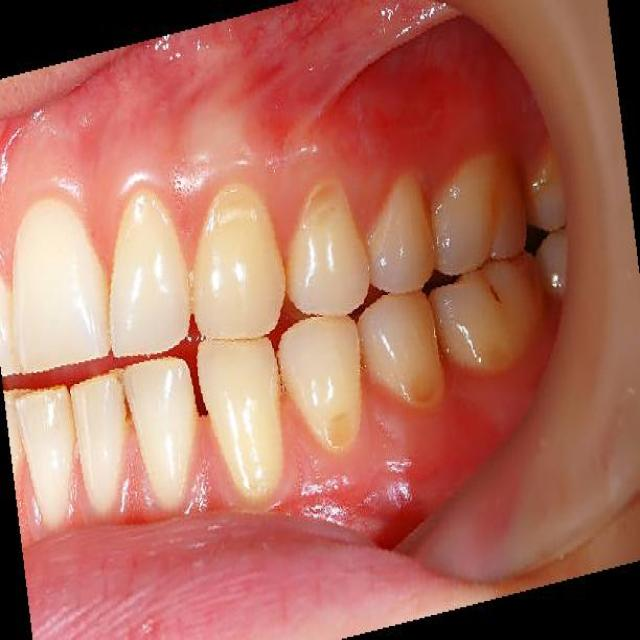caries: (486, 274, 509, 311)
